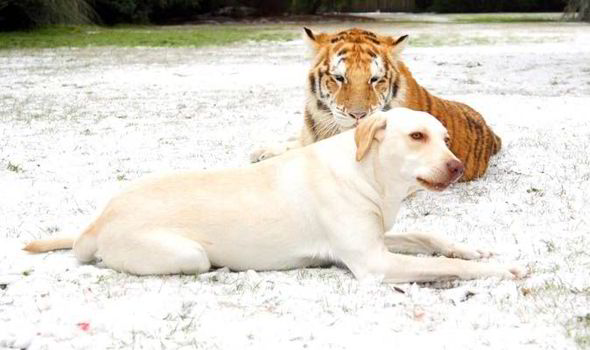dog: (19, 111, 520, 279)
tiger: (287, 27, 503, 187)
